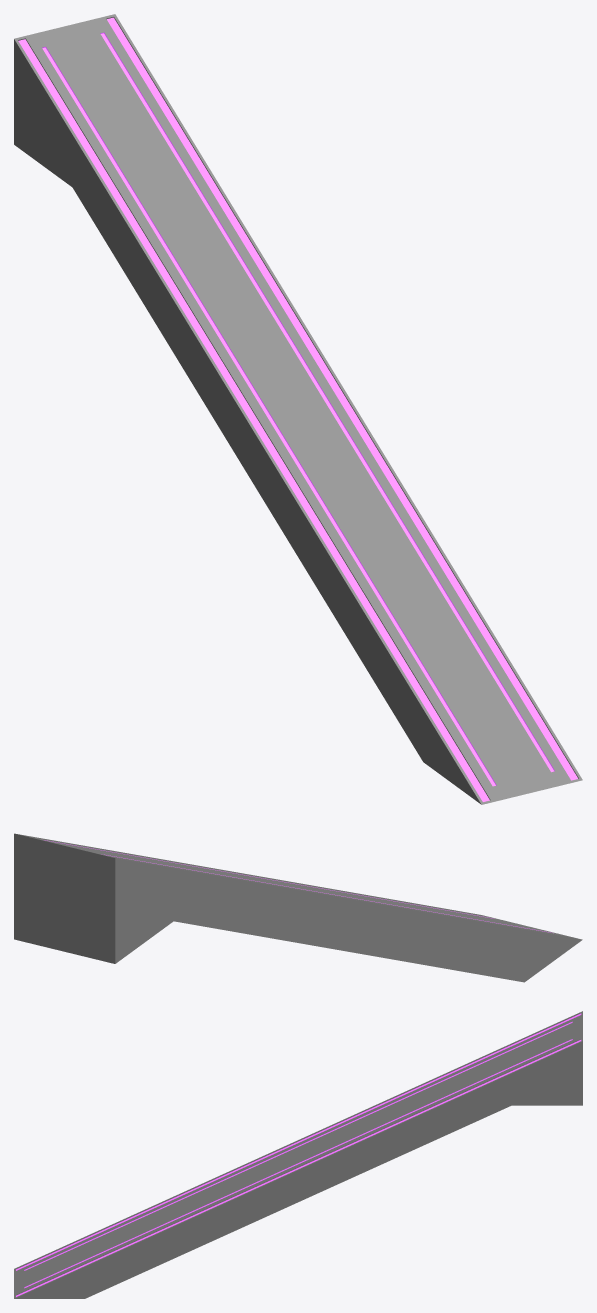
Rendered from Slope01.FBX.
3 renders of one model, top to bottom at view 1: azimuth 30°, elevation 25°; view 2: azimuth 150°, elevation 25°; view 3: azimuth 270°, elevation 25°, orthographic. The views are drawn at different scales.
Parts seen in each view (by area): view 1: Slope01; view 2: Slope01; view 3: Slope01.
Boxes of the visible parts, x1,y1,x2,y2 form: Slope01: (14, 14, 582, 804); Slope01: (14, 833, 582, 982); Slope01: (14, 1011, 582, 1298).
Bounding box in the file's own units: 100 × 400 × 800.
